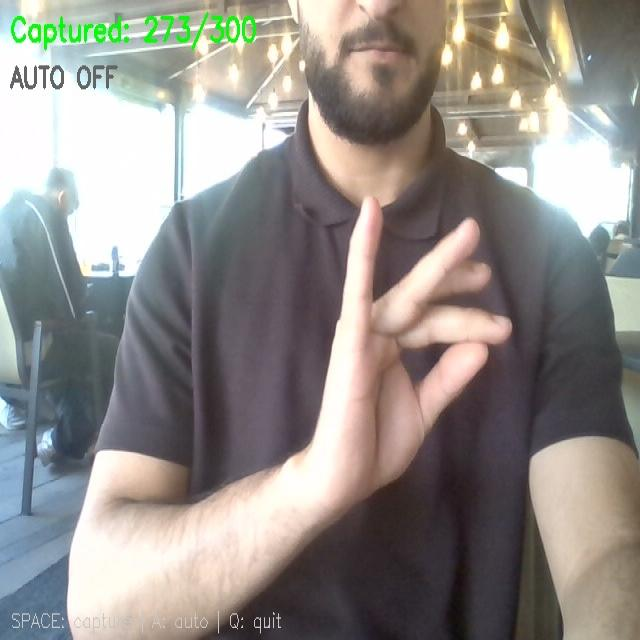Hand: (298, 198, 510, 514)
